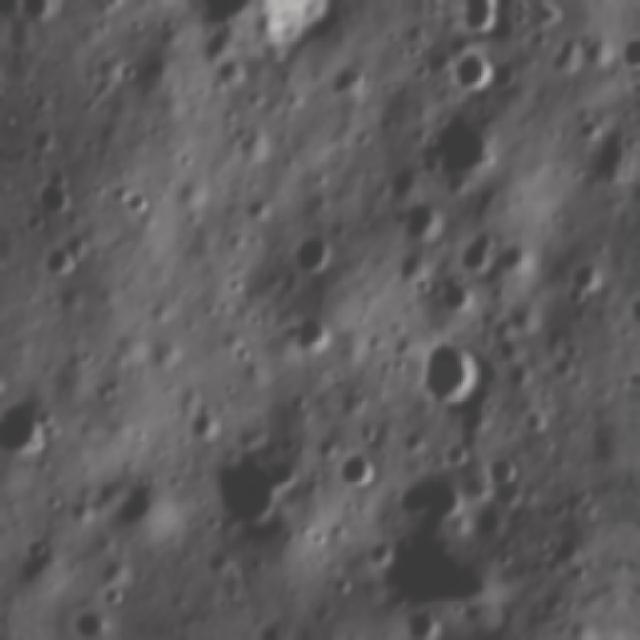crater: (370, 530, 504, 632), (178, 0, 340, 63), (202, 444, 304, 544), (414, 332, 497, 414), (418, 114, 504, 189), (99, 472, 173, 546), (393, 468, 469, 530), (0, 394, 60, 466), (25, 164, 80, 218), (284, 229, 339, 280), (400, 188, 452, 241), (450, 226, 504, 276), (194, 50, 255, 93), (444, 44, 496, 94), (283, 312, 339, 358), (428, 274, 480, 317), (339, 445, 384, 487), (565, 256, 609, 298), (36, 238, 78, 282), (322, 62, 366, 102), (458, 8, 505, 43), (120, 185, 162, 224), (182, 400, 220, 443), (568, 110, 610, 148), (17, 0, 65, 32), (17, 527, 55, 567), (405, 601, 443, 640), (483, 450, 522, 488), (518, 401, 558, 437), (612, 33, 640, 76), (614, 289, 640, 333), (98, 582, 130, 610), (229, 339, 260, 367), (114, 55, 144, 82), (0, 367, 9, 401), (15, 38, 19, 78)
